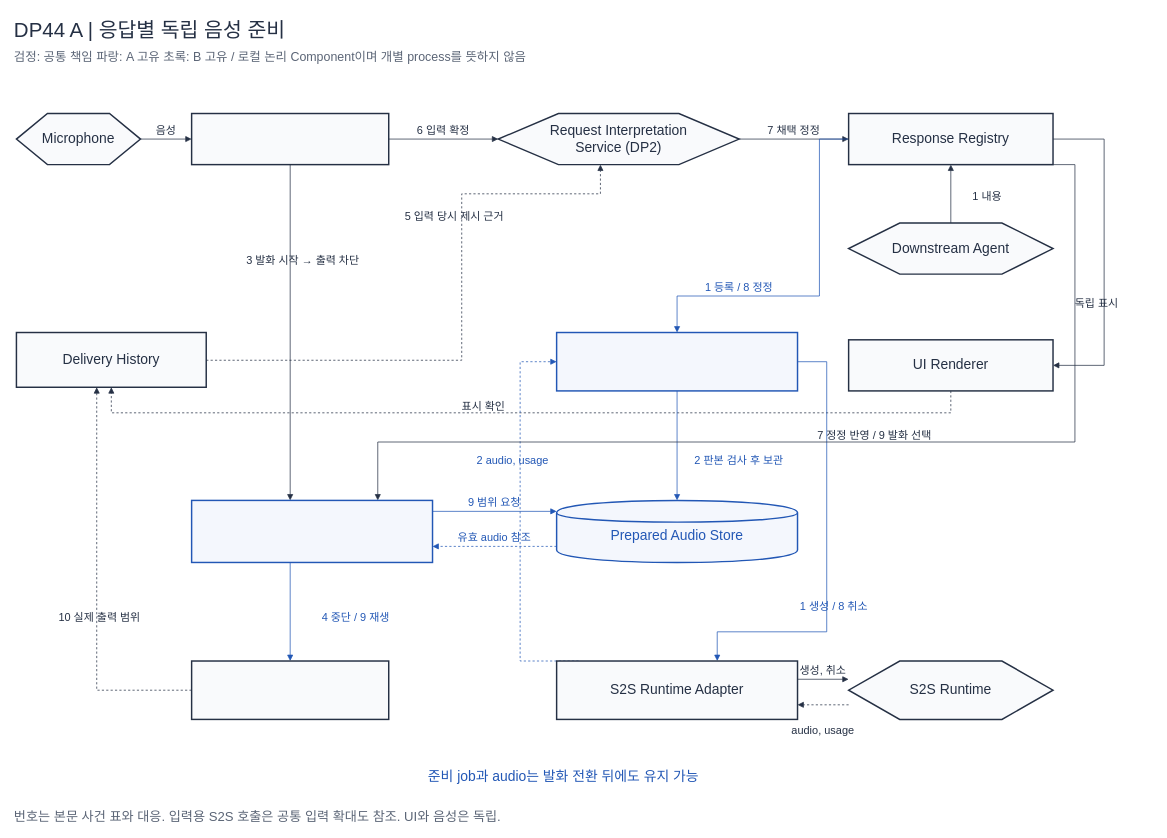
Some shapes in this 1167 by 838 pixel diagram are drawn without their labels. Here are the shapes that lost their labels. From the top down, the box of each, then its label:
(191, 112, 389, 165): Voice Input Controller
(556, 331, 798, 391): Speech Preparation Coordinator
(191, 499, 433, 563): Speech Playback Coordinator
(191, 660, 389, 720): Audio Playout
